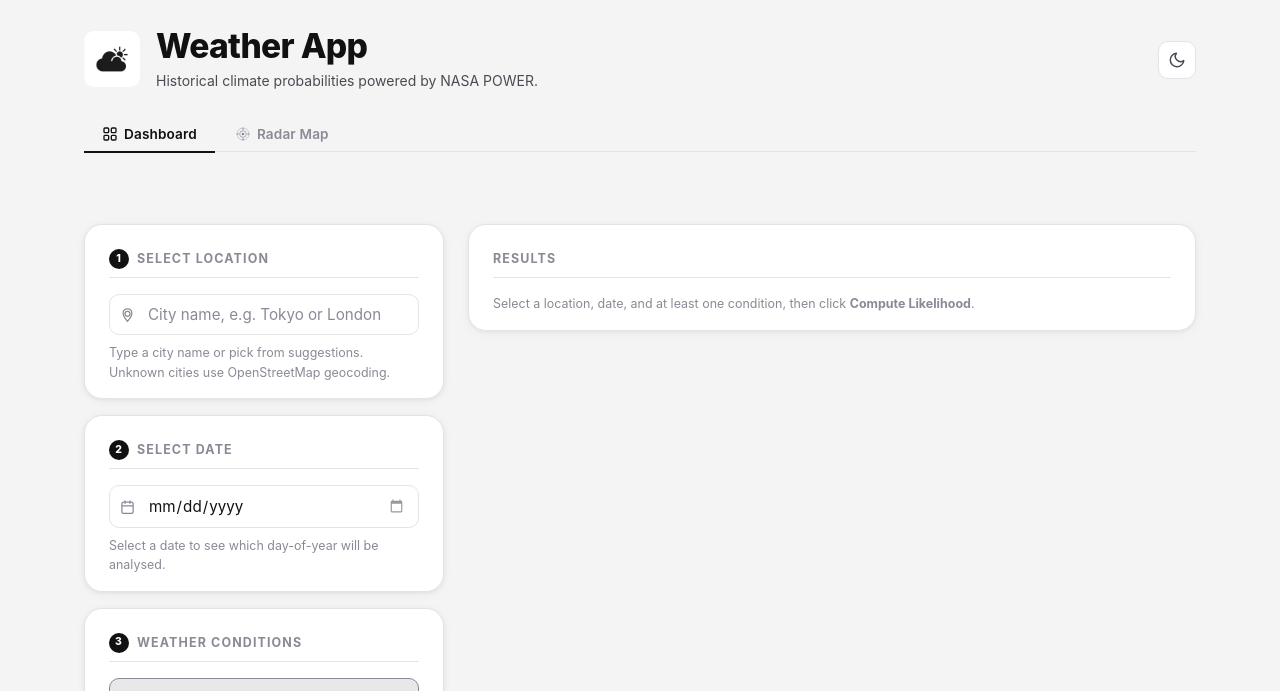
Test case: App › shows error message when NASA POWER API fails
In the field named "location": [264, 315] box x1=109 y1=294 x2=419 y2=335, type "Mumbai"
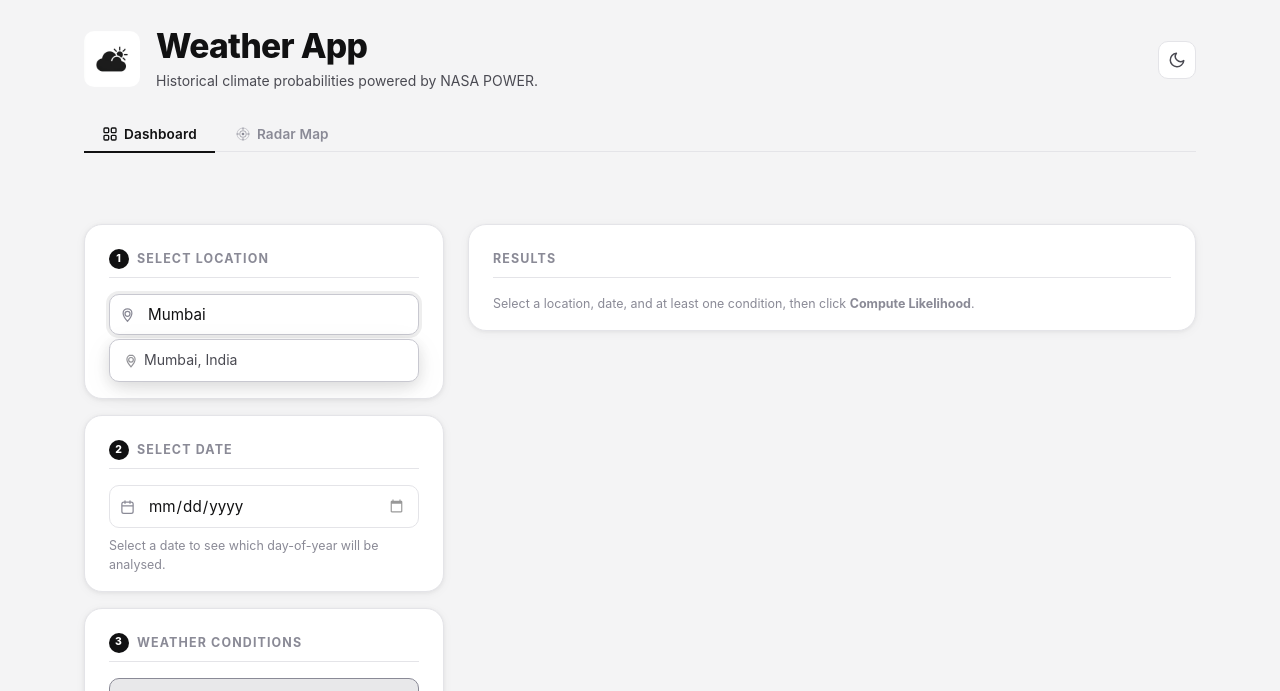
In the date field named "date": [264, 506] box x1=109 y1=485 x2=419 y2=528, type "2025-07-15"
(page scrolled)
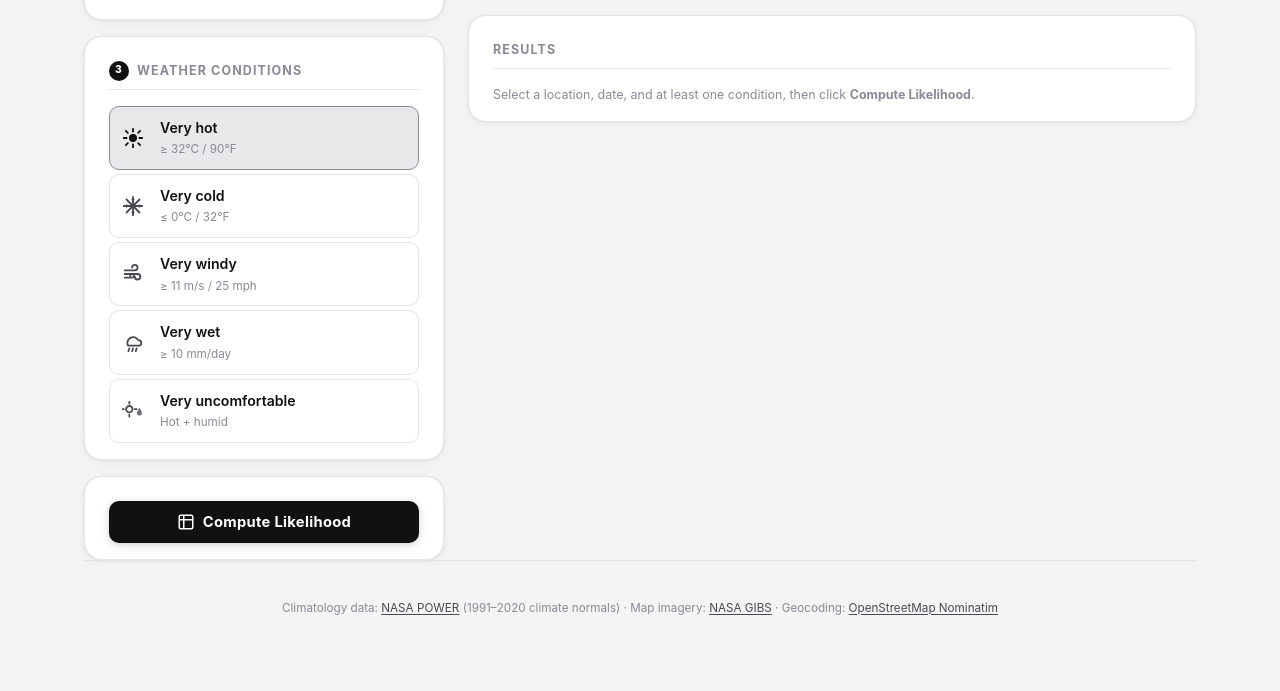
Click the button "Compute Likelihood": [264, 522] box x1=109 y1=501 x2=419 y2=543
(page scrolled)
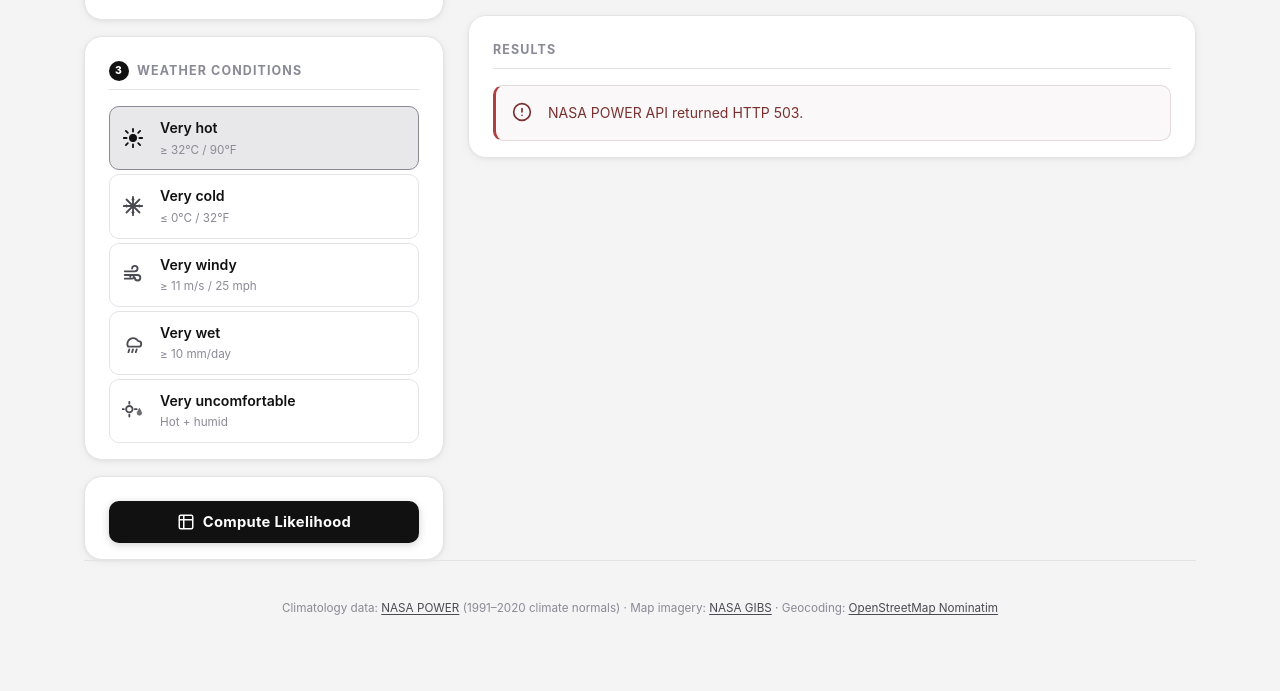
Now the message "NASA POWER API returned HTTP 503." is shown, box x1=493 y1=85 x2=1171 y2=141
Now the message shows "503", box x1=548 y1=104 x2=803 y2=121
